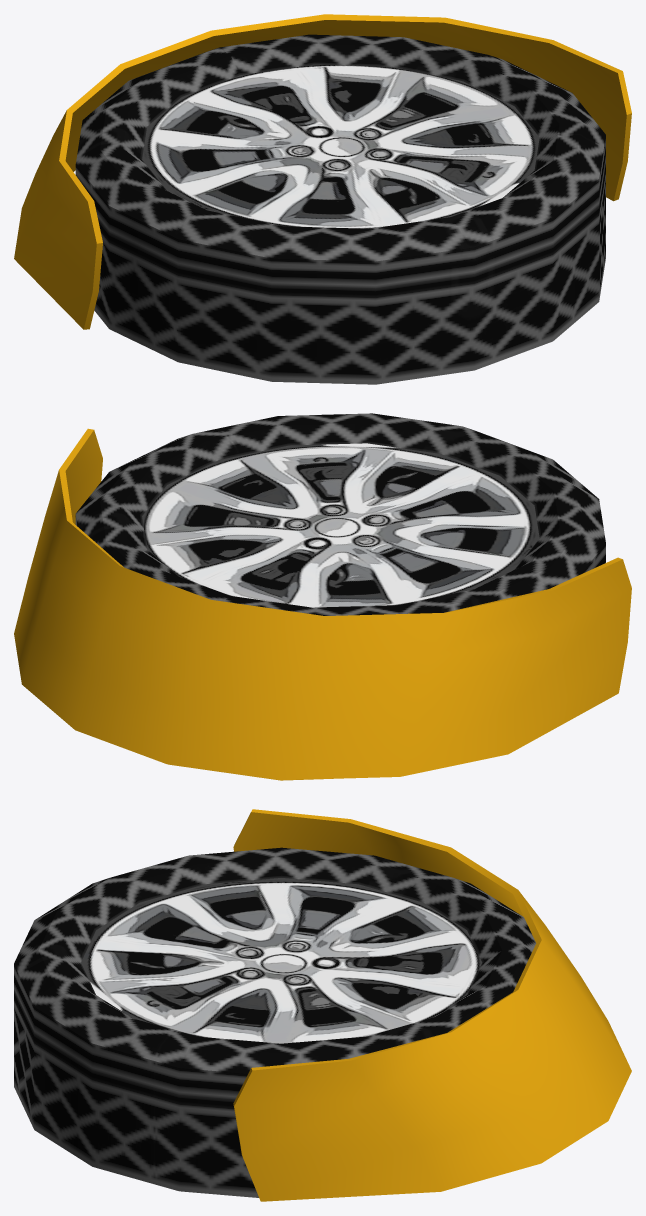
The model's file is single wheel.fbx.
3 views of the same model, one above another, from view 1: azimuth 30°, elevation 25°; view 2: azimuth 150°, elevation 25°; view 3: azimuth 270°, elevation 25° (orthographic).
Visible parts, largest first — view 1: Circle.003; view 2: Circle.003; view 3: Circle.003.
Boxes of the visible parts, x1,y1,x2,y2 form: Circle.003: [14, 14, 631, 384]; Circle.003: [14, 413, 631, 780]; Circle.003: [14, 809, 631, 1201].
Size of the model in its own units: 92.3 by 24.21 by 92.23.
Materials: 1 (1 with a texture image).
